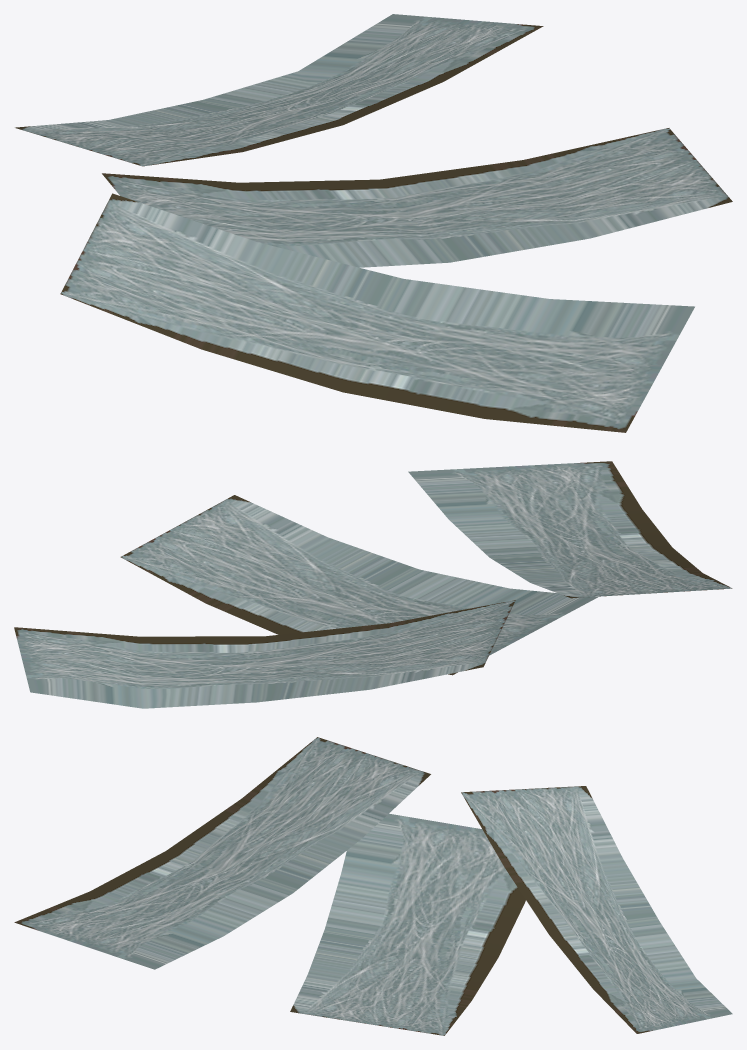
Rendered from 6001_Item_zhizhuwang_7.FBX.
3 views of the same model, one above another, from view 1: azimuth 30°, elevation 25°; view 2: azimuth 150°, elevation 25°; view 3: azimuth 270°, elevation 25° (orthographic). The views are drawn at different scales.
Visible parts, largest first — view 1: 6001_Item_zhizhuwang_7; view 2: 6001_Item_zhizhuwang_7; view 3: 6001_Item_zhizhuwang_7.
Boxes of the visible parts, box(x1,y1,x2,y2) form: 6001_Item_zhizhuwang_7: box(15, 14, 732, 432); 6001_Item_zhizhuwang_7: box(14, 461, 732, 708); 6001_Item_zhizhuwang_7: box(14, 737, 732, 1035).
Bounding box in the file's own units: 2311 × 311 × 2787.
1 material, 1 textured.
